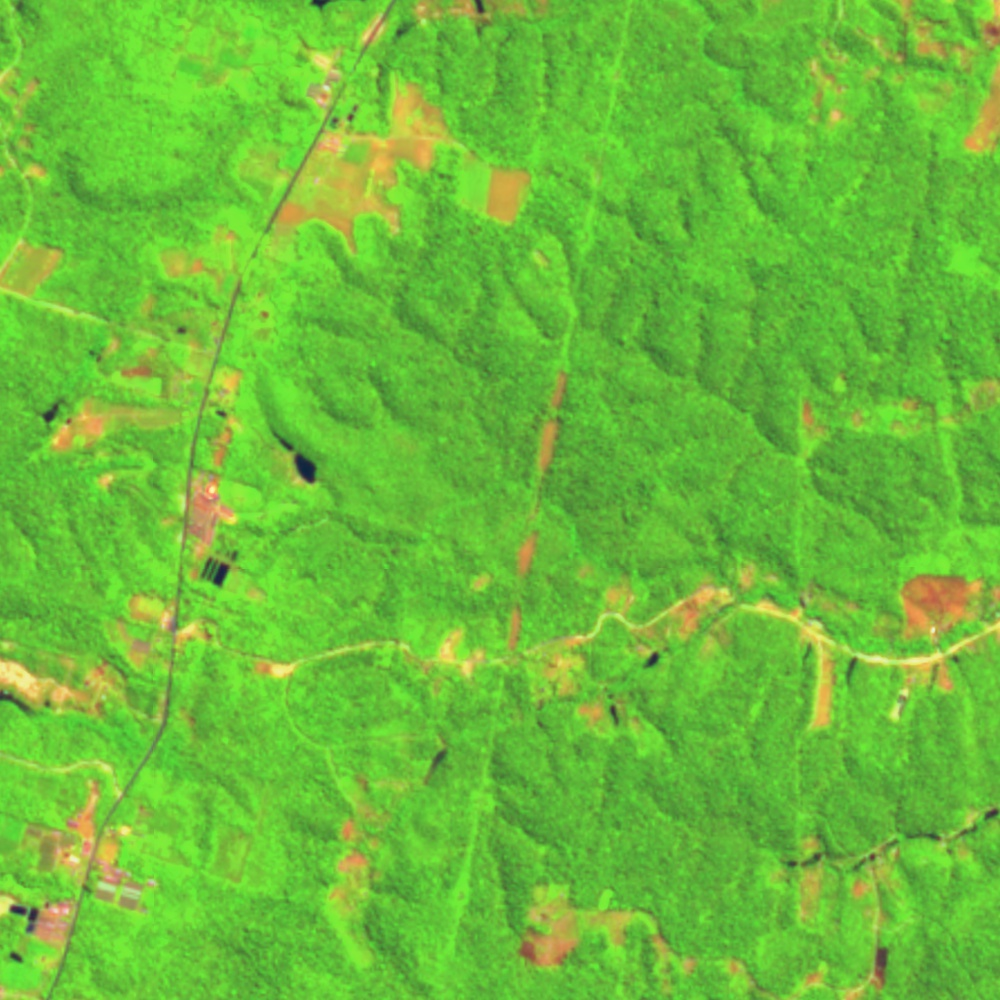legal: (261, 39, 453, 251), (515, 875, 783, 998), (803, 1, 1000, 155), (1, 781, 148, 964), (778, 800, 1000, 916), (34, 338, 189, 460), (596, 564, 783, 655), (798, 371, 1000, 448), (1, 637, 170, 728), (127, 220, 245, 348), (180, 356, 243, 588), (514, 649, 657, 749), (319, 768, 406, 915), (789, 581, 858, 738), (896, 574, 1000, 652), (392, 1, 557, 46), (125, 592, 217, 666), (451, 158, 540, 229), (1, 65, 49, 178), (397, 628, 489, 685), (891, 652, 954, 727), (265, 419, 322, 489), (1, 239, 62, 297), (251, 652, 291, 680), (871, 940, 891, 992), (467, 570, 497, 590)
